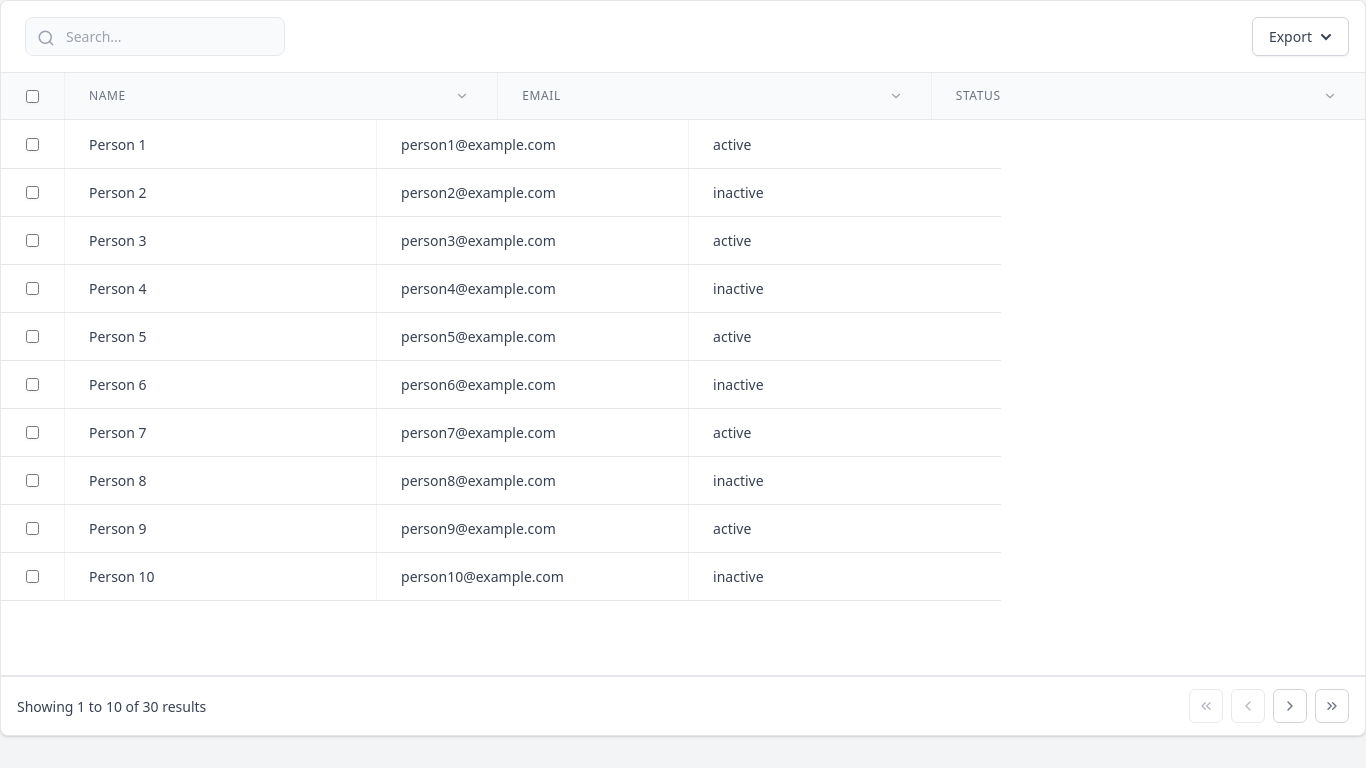
Test: DataTable Pagination › navigates to next page
The width and height of the screenshot is (1366, 768).
Click the button named "Next page". click: (1290, 706)
box: [1273, 689, 1307, 723]
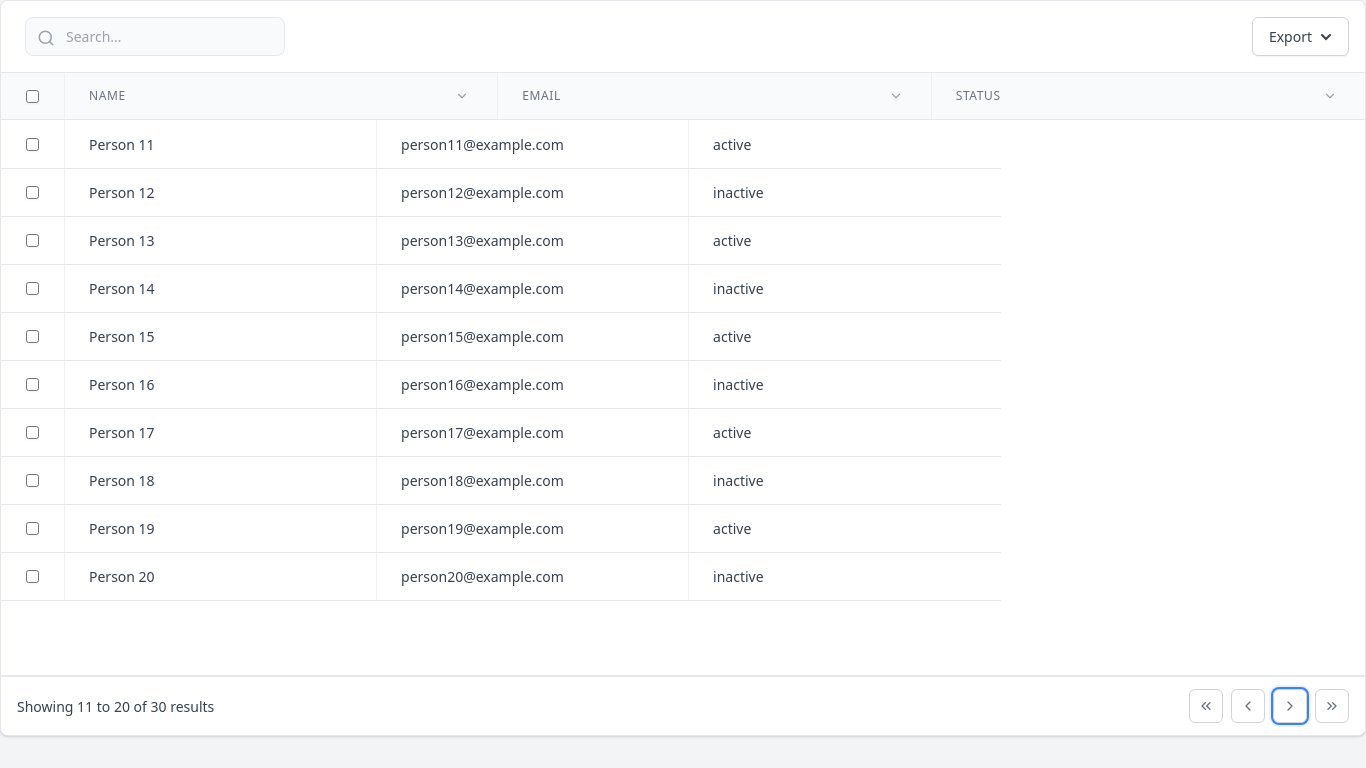
Check: the text "Person 11" is shown, box [89, 134, 155, 154]
